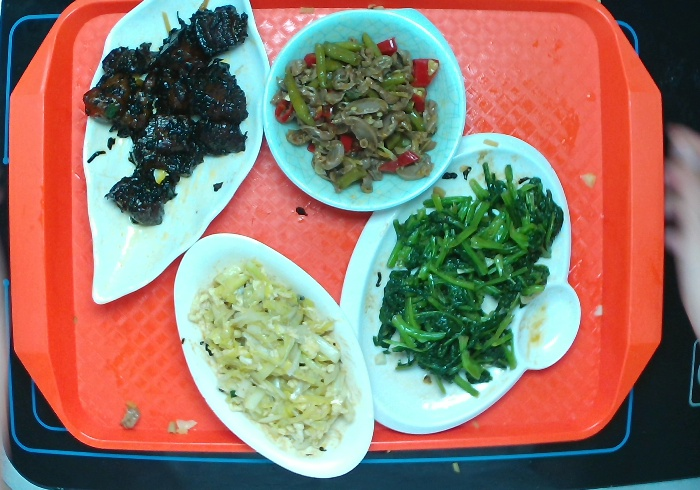RJxy-Bai_Se_Tuo_Yuan: (171, 229, 377, 480)
RJxy-Shu_Ye_Pan: (81, 1, 267, 310)
RJxy-Xiao_Jiao_Yuan_Wan: (260, 1, 468, 215)
RJxy-Zhan_Liao_Pan: (334, 127, 586, 437)
